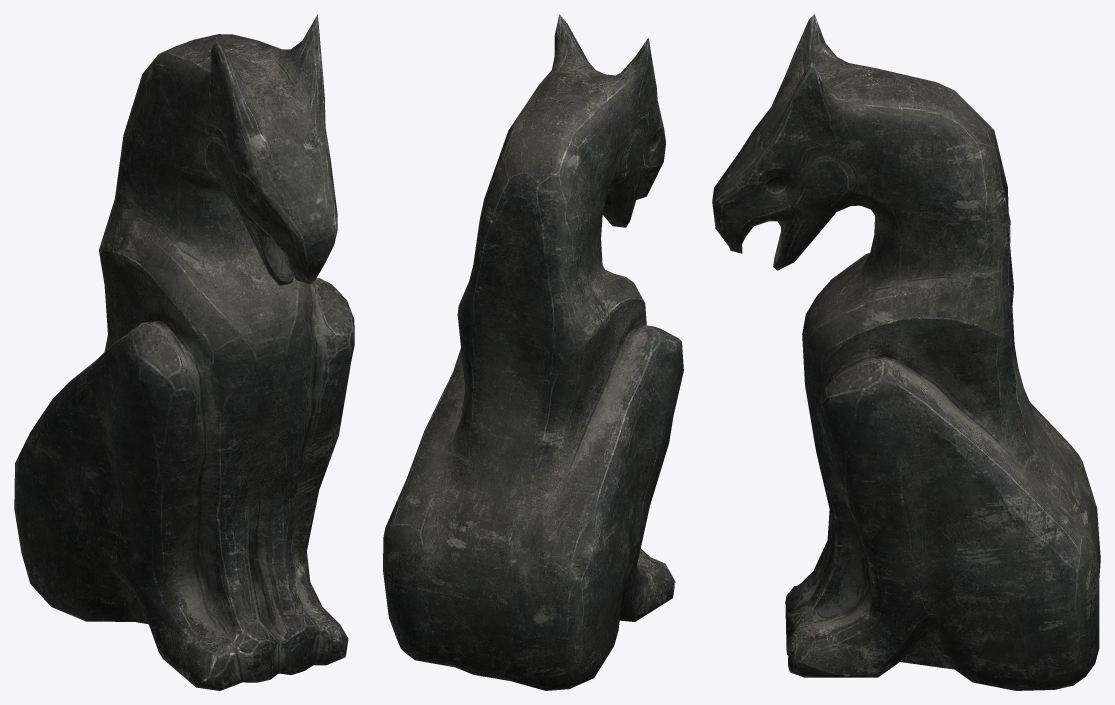
Rendered from statue.glb.
The picture shows the model from 3 angles, left to right: view 1: azimuth 30°, elevation 25°; view 2: azimuth 150°, elevation 25°; view 3: azimuth 270°, elevation 25°; orthographic projection. The views are drawn at different scales.
Visible parts, largest first — view 1: staue1_staue1_0; view 2: staue1_staue1_0; view 3: staue1_staue1_0.
Boxes of the visible parts, <box> form: staue1_staue1_0: <box>14,14,354,690</box>; staue1_staue1_0: <box>383,14,683,690</box>; staue1_staue1_0: <box>712,14,1100,690</box>.
Size of the model in its own units: 3.02 by 7.79 by 4.49.
1 material, 1 textured.
